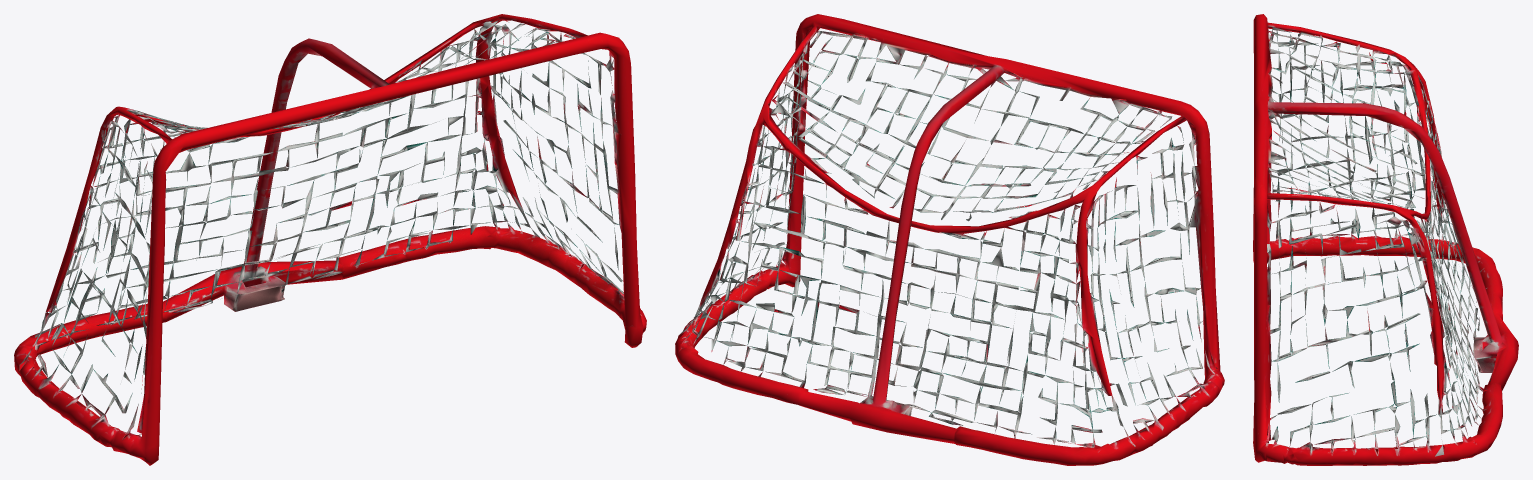
The picture shows the model from 3 angles, left to right: view 1: azimuth 30°, elevation 25°; view 2: azimuth 150°, elevation 25°; view 3: azimuth 270°, elevation 25°; orthographic projection. The views are drawn at different scales.
Parts seen in each view (by area): view 1: Mesh_0; view 2: Mesh_0; view 3: Mesh_0.
Boxes of the visible parts, box(x1,y1,x2,y2) form: Mesh_0: box(14, 14, 646, 465); Mesh_0: box(675, 14, 1224, 465); Mesh_0: box(1253, 14, 1518, 465).
Size of the model in its own units: 429 by 244 by 221.
1 material, 1 textured.
